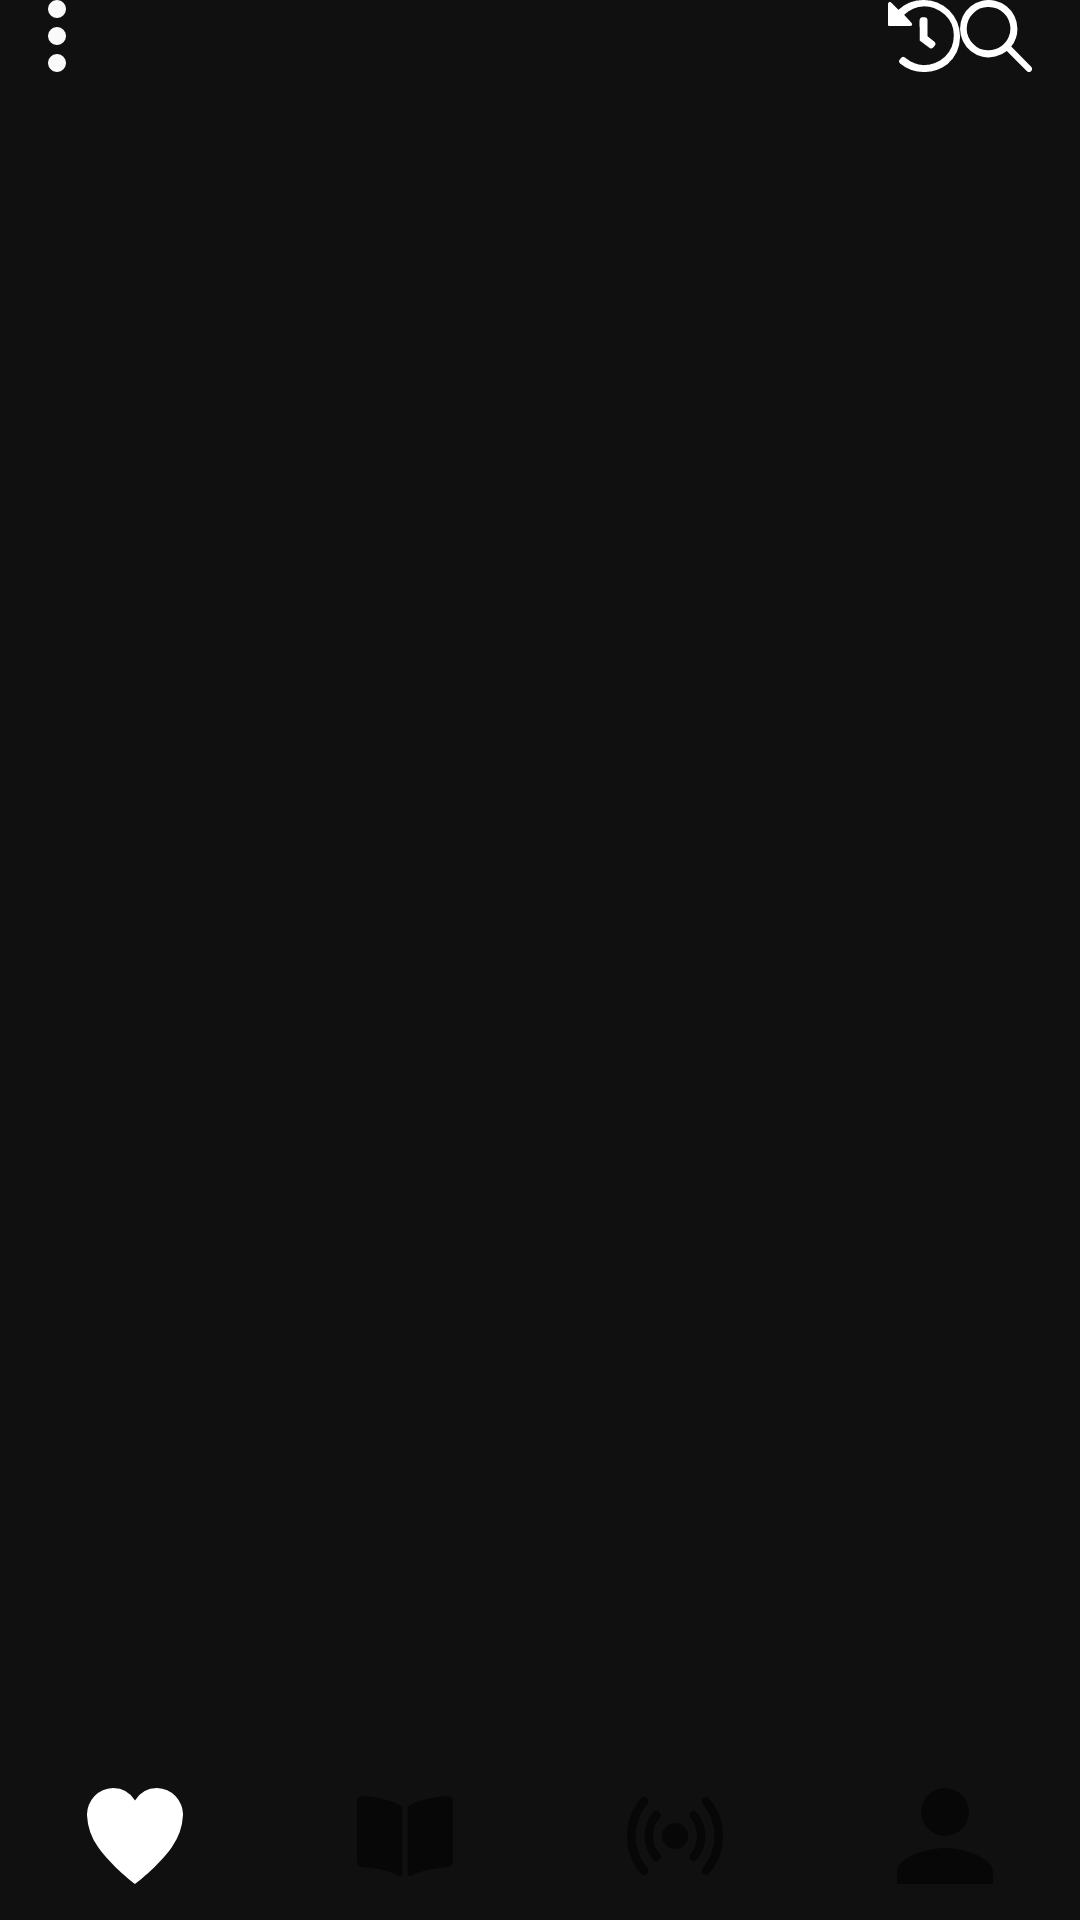

Icon bounding boxes for this 1080px x 1920px phone screenshot, format (x1, y1, x2, y2):
awesome history: (888, 0, 960, 72)
ionic search: (960, 0, 1032, 72)
